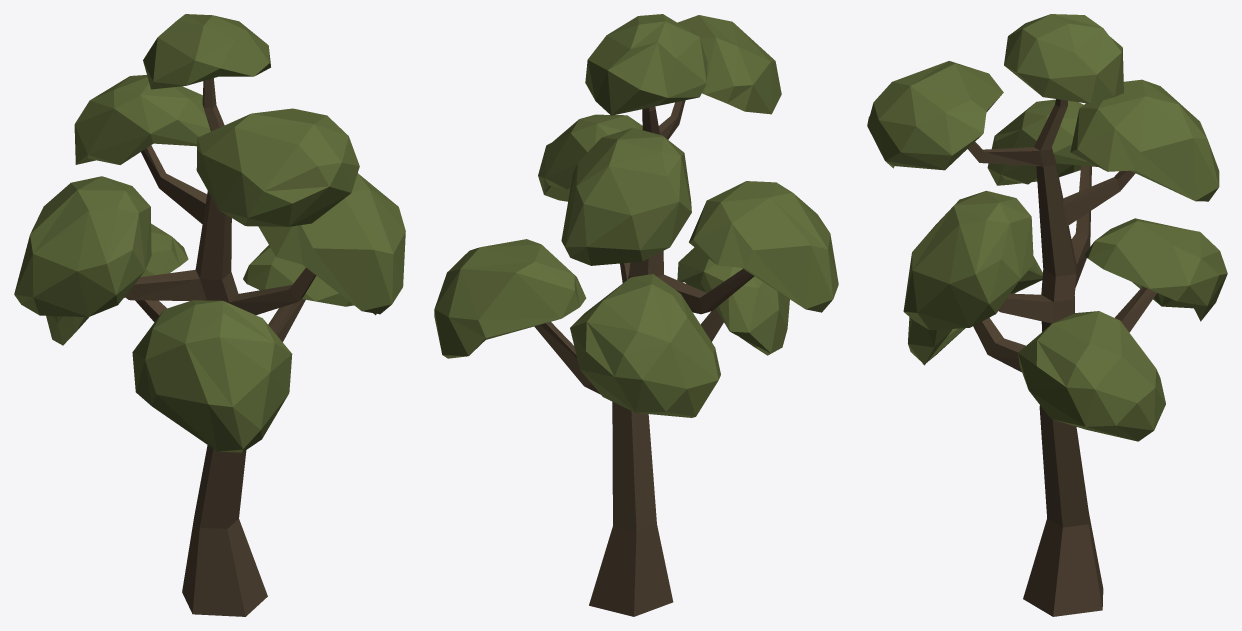
The model's file is SM_Env_Tree_014.gltf.
3 renders of one model, left to right at view 1: azimuth 30°, elevation 25°; view 2: azimuth 150°, elevation 25°; view 3: azimuth 270°, elevation 25°, orthographic. The views are drawn at different scales.
Parts seen in each view (by area): view 1: SM_Env_Tree_014; view 2: SM_Env_Tree_014; view 3: SM_Env_Tree_014.
Part boxes in pixels (box(x1,y1,x2,y2)): SM_Env_Tree_014: box(14, 14, 405, 616); SM_Env_Tree_014: box(434, 14, 838, 616); SM_Env_Tree_014: box(867, 14, 1227, 616).
Bounding box in the file's own units: 4.03 × 5.92 × 3.38.
Materials: 1 (1 with a texture image).
